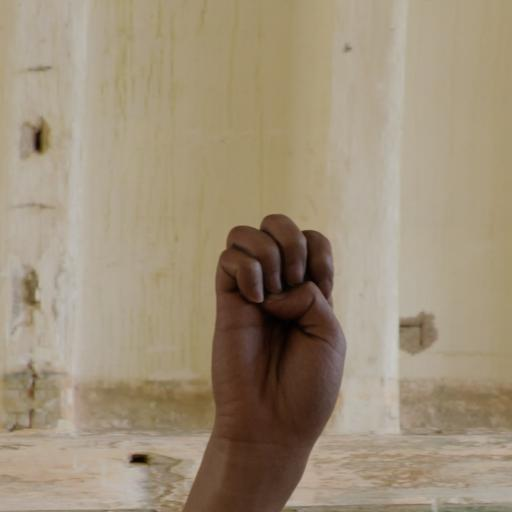E: (187, 202, 351, 465)
